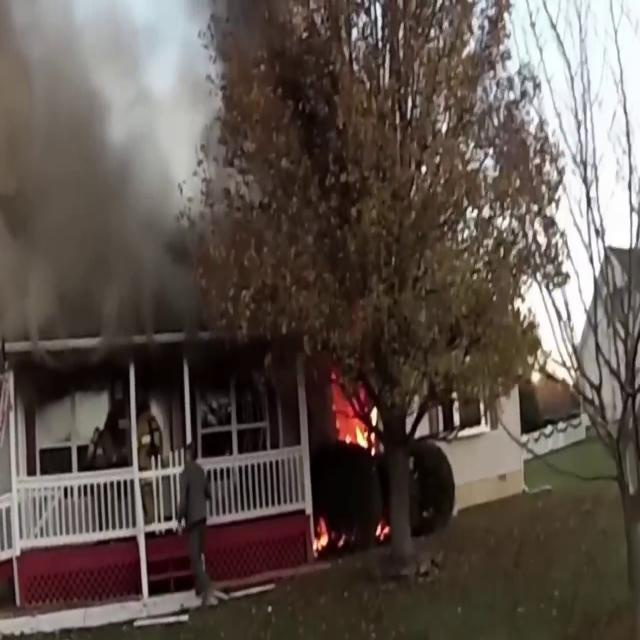Fire: (330, 370, 378, 460)
Smoke: (0, 0, 214, 347)
